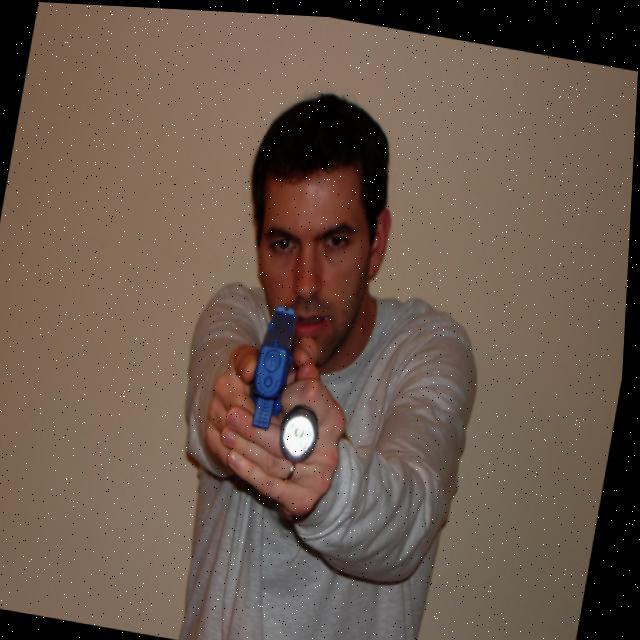pistol: (247, 295, 306, 431)
